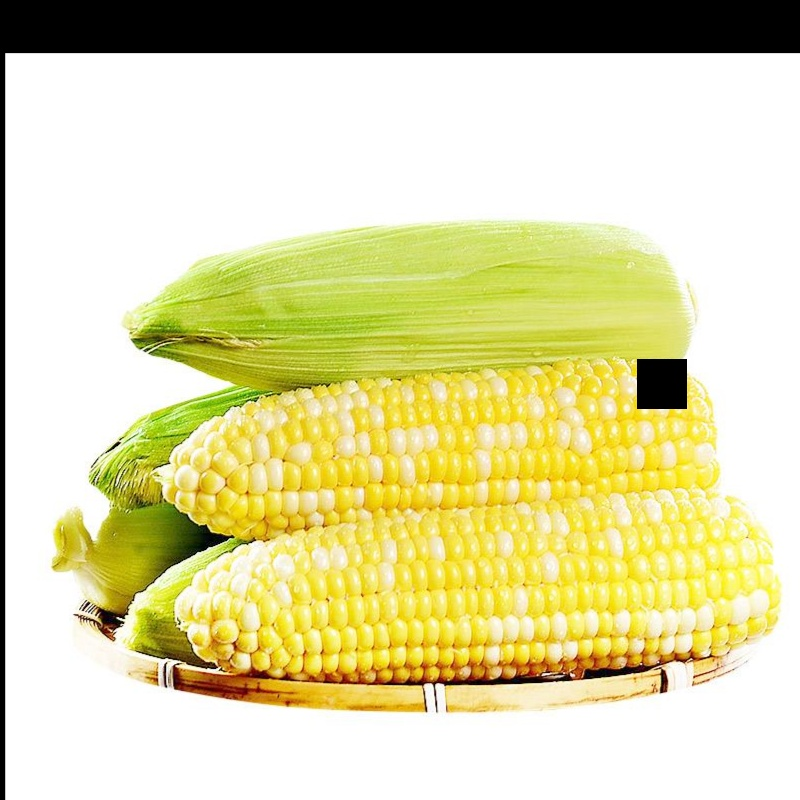corn: (160, 358, 719, 540), (198, 504, 776, 666)
corn_plant: (129, 222, 708, 367)
